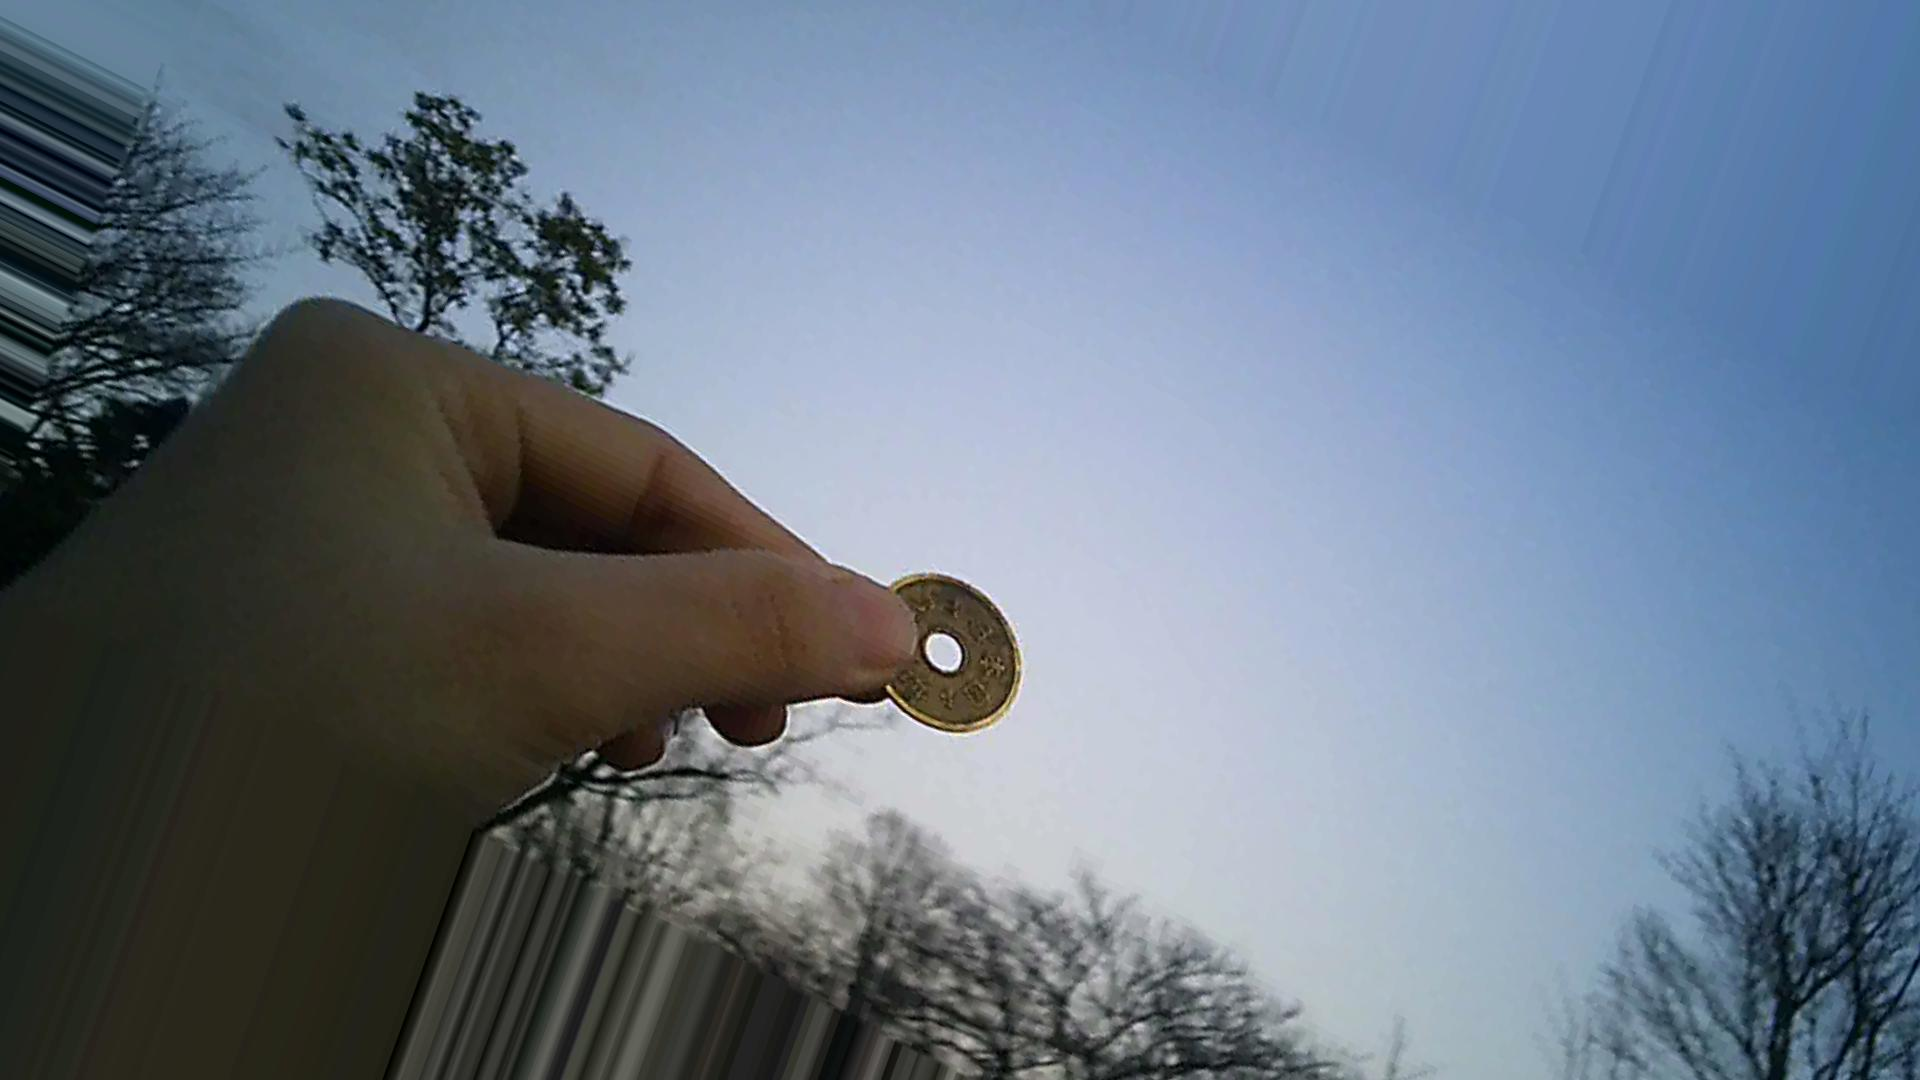5 Yen: (862, 556, 1039, 745)
